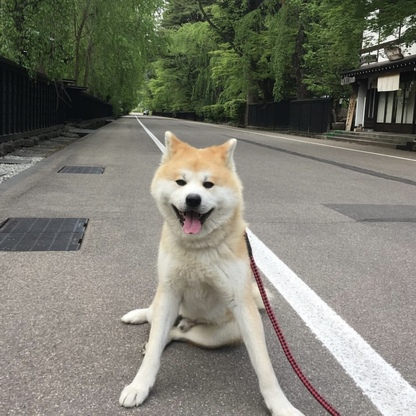akita: (110, 126, 307, 416)
